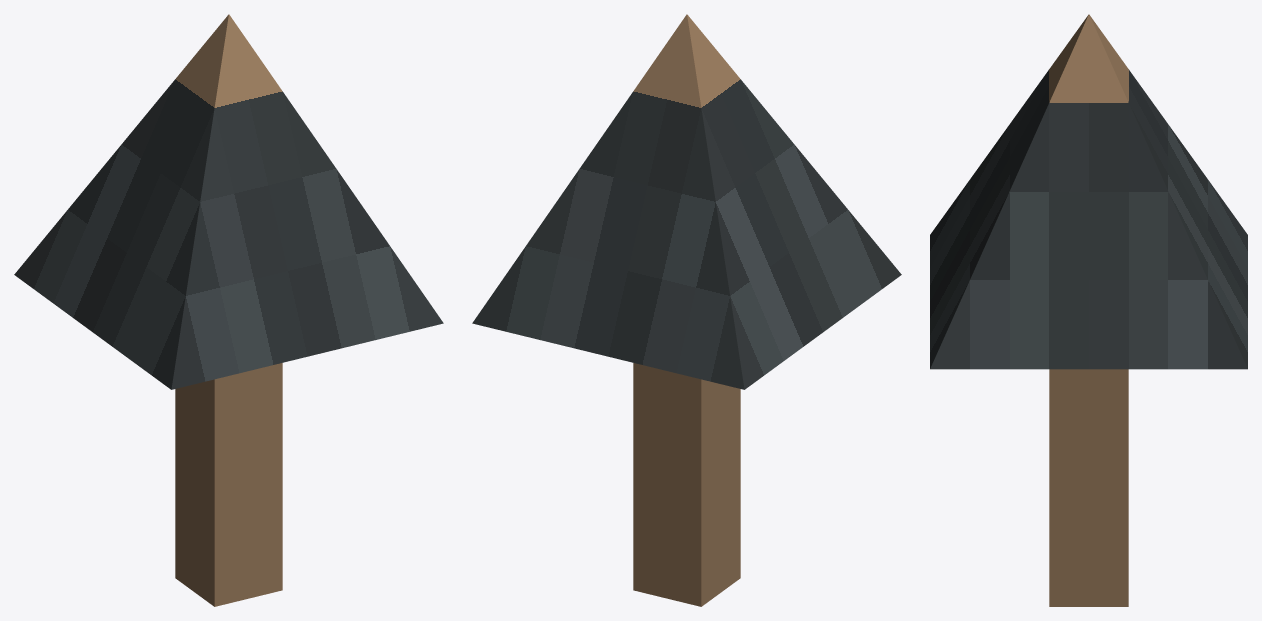
File: gray_umbrella_close_3d.obj
3 views of the same model, side by side, from view 1: azimuth 30°, elevation 25°; view 2: azimuth 150°, elevation 25°; view 3: azimuth 270°, elevation 25° (orthographic).
Visible parts, largest first — view 1: Cube; view 2: Cube; view 3: Cube.
Part boxes in pixels (x1,y1,x2,y2): Cube: [14, 14, 443, 606]; Cube: [472, 14, 901, 606]; Cube: [930, 14, 1247, 606].
Bounding box in the file's own units: 0.5 × 1 × 0.5.
